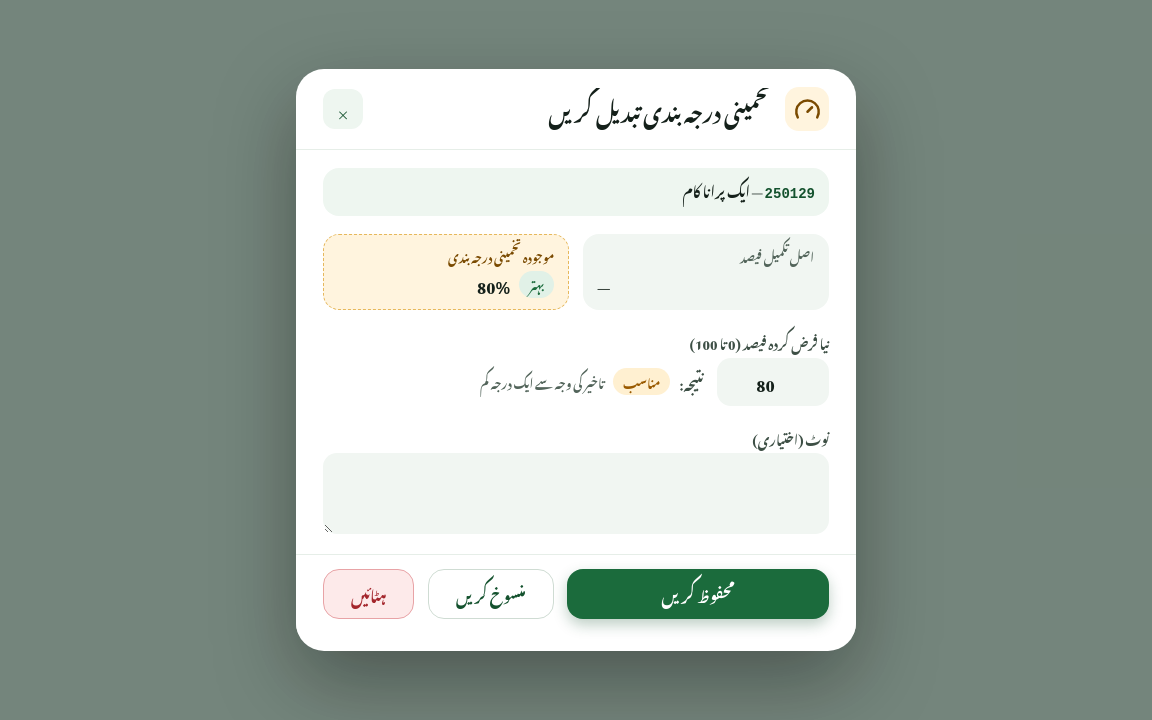
Test case: the dialog preview › late task, 90%: بہتر, with the approved hint
Step 1. Replace the text in the number field labelled "نیا فرض کردہ فیصد (0 تا 100)" with "90" → (773, 382), box left=717, top=358, right=829, bottom=406
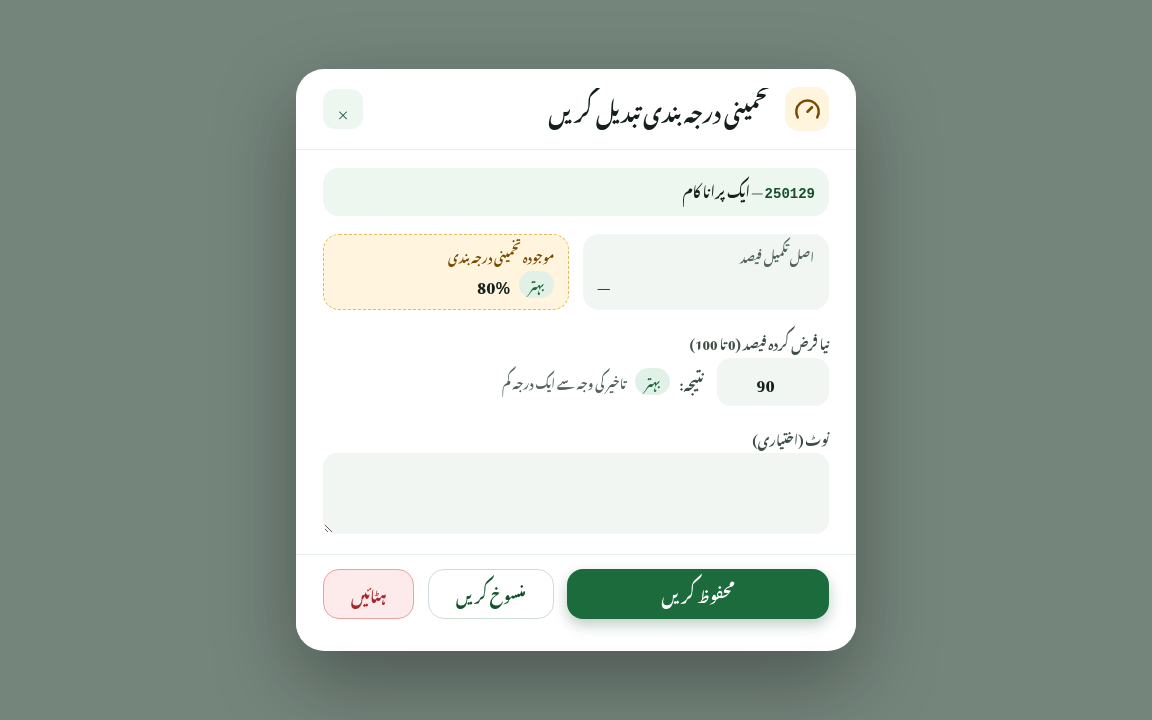
Expected: the element with id "synthetic-percent-preview" does not show "ممتاز", left=502, top=367, right=704, bottom=396
Expected: the element with id "synthetic-percent-preview" shows "بہتر", left=645, top=366, right=660, bottom=396
